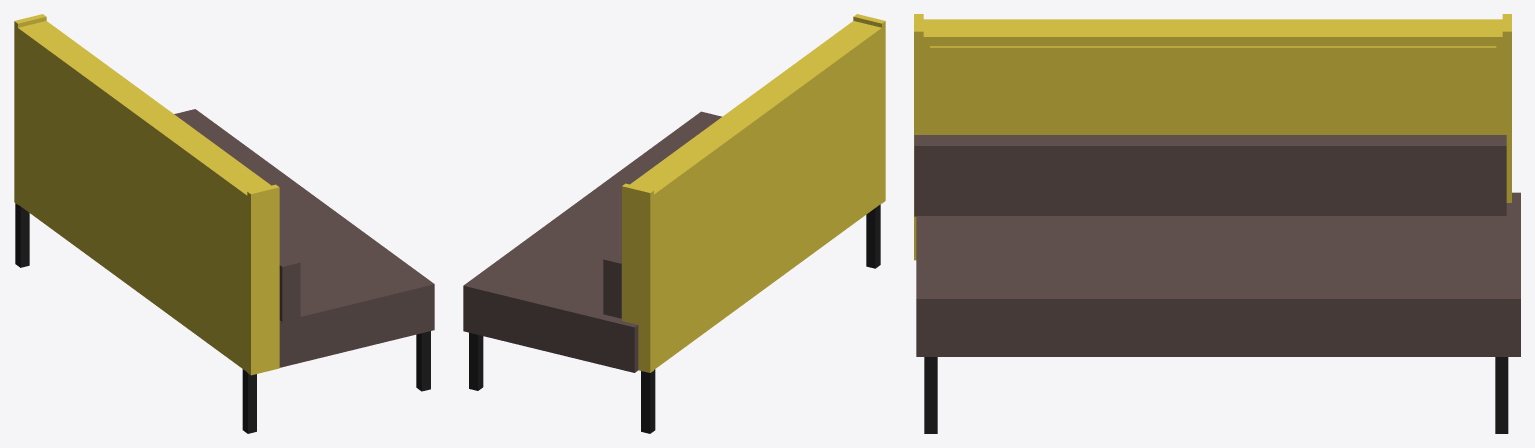
File: rectangularsofa.fbx
The picture shows the model from 3 angles, left to right: view 1: azimuth 30°, elevation 25°; view 2: azimuth 150°, elevation 25°; view 3: azimuth 270°, elevation 25°; orthographic projection. The views are drawn at different scales.
Visible parts, largest first — view 1: Cube.152, Cube.151, Cube.158, Cube.157, Cube.159, Cube.153, Cube.155, Cube.154; view 2: Cube.152, Cube.151, Cube.159, Cube.157, Cube.155, Cube.153, Cube.156, Cube.158; view 3: Cube.151, Cube.169, Cube.157, Cube.152, Cube.158, Cube.159, Cube.154, Cube.156.
Boxes of the visible parts, x1,y1,x2,y2 form: Cube.152: (18,21,270,373); Cube.151: (174,109,434,367); Cube.158: (247,184,279,375); Cube.157: (279,247,300,322); Cube.159: (14,14,46,204); Cube.153: (242,369,256,433); Cube.155: (15,203,29,267); Cube.154: (416,331,430,391); Cube.152: (630,21,884,369); Cube.151: (463,111,721,372); Cube.159: (622,183,653,372); Cube.157: (603,246,621,318); Cube.155: (641,369,655,433); Cube.153: (866,204,880,268); Cube.156: (469,332,483,390); Cube.158: (853,14,885,203); Cube.151: (916,192,1520,356); Cube.169: (930,46,1496,134); Cube.157: (914,135,1506,216); Cube.152: (923,19,1503,134); Cube.158: (914,14,923,260); Cube.159: (1502,14,1511,202); Cube.154: (924,357,937,433); Cube.156: (1495,357,1508,433).
Size of the model in its own units: 1288 by 1618 by 2901.
